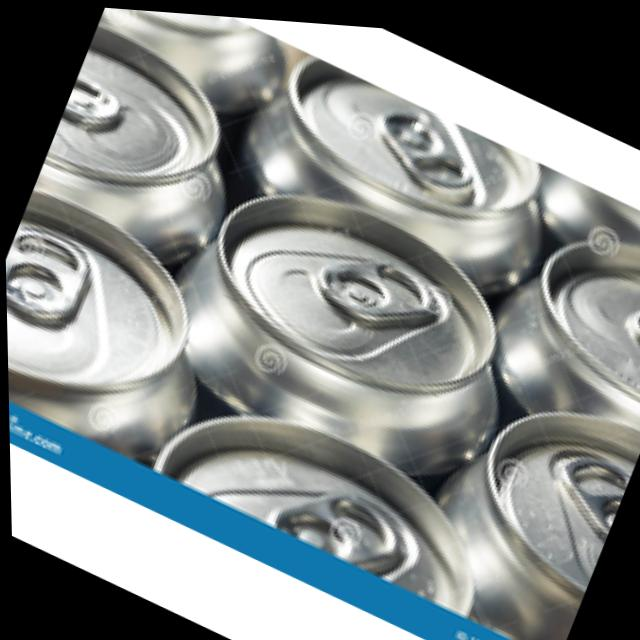aluminum_soda_cans: (159, 155, 549, 500), (151, 369, 506, 615), (241, 37, 564, 288), (3, 185, 226, 466), (30, 17, 266, 264), (456, 381, 640, 640), (504, 205, 640, 430)
